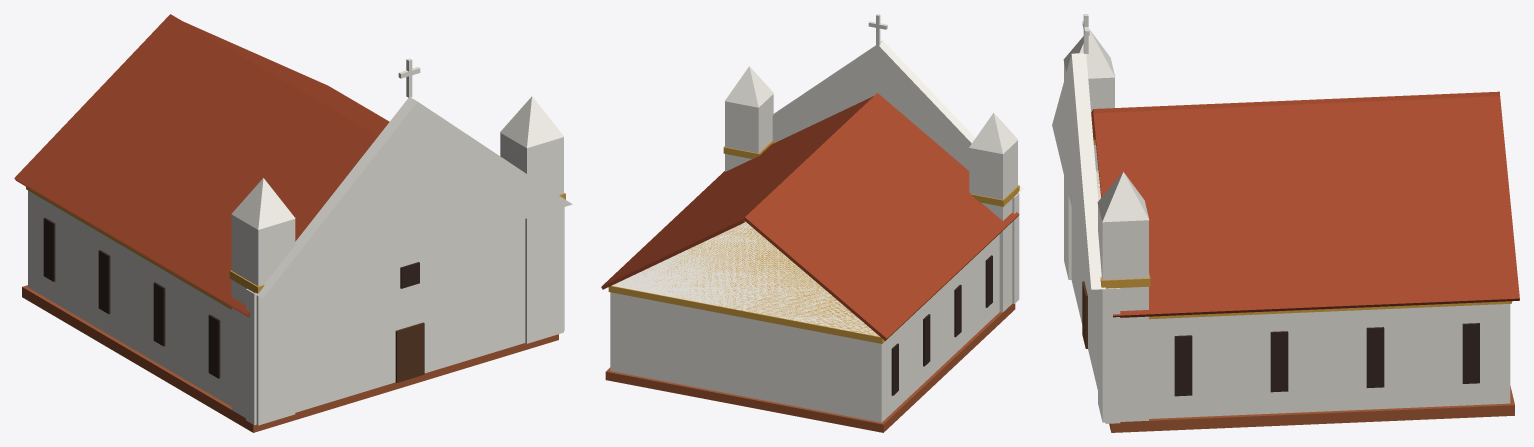
File: donbosco.glb
3 renders of one model, left to right at view 1: azimuth 30°, elevation 25°; view 2: azimuth 150°, elevation 25°; view 3: azimuth 270°, elevation 25°, orthographic. The views are drawn at different scales.
Parts seen in each view (by area): view 1: m.001, Cube.011, m.002, Cube.001, Cube.016, Cube.014, Cube, m, Cone, Cone.001, Cube.012, Cube.007 (+4 smaller); view 2: Cube.001, m.001, m, Cube.002, m.002, Cube, Cube.016, Cube.014, Cone, Cone.001, Cube.011; view 3: m, Cube.001, Cube.014, m.002, Cube, Cube.011, m.001, Cone, Cube.016, Cube.002, Cube.003, Cube.004 (+4 smaller).
Part boxes in pixels (left/top/right/bottom): m.001: left=14, top=14, right=378, bottom=317; Cube.011: left=246, top=207, right=564, bottom=425; m.002: left=254, top=97, right=572, bottom=298; Cube.001: left=28, top=190, right=231, bottom=406; Cube.016: left=231, top=215, right=295, bottom=425; Cube.014: left=500, top=133, right=563, bottom=343; Cube: left=22, top=285, right=558, bottom=432; m: left=185, top=22, right=389, bottom=135; Cone: left=500, top=96, right=563, bottom=147; Cone.001: left=231, top=178, right=295, bottom=229; Cube.012: left=395, top=322, right=424, bottom=382; Cube.007: left=208, top=314, right=220, bottom=378; Cube.001: left=610, top=222, right=999, bottom=422; m.001: left=743, top=93, right=1019, bottom=340; m: left=601, top=96, right=873, bottom=289; Cube.002: left=608, top=222, right=1000, bottom=343; m.002: left=772, top=40, right=1023, bottom=193; Cube: left=605, top=304, right=1015, bottom=432; Cube.016: left=969, top=140, right=1017, bottom=312; Cube.014: left=725, top=94, right=773, bottom=171; Cone: left=725, top=66, right=773, bottom=107; Cone.001: left=969, top=112, right=1017, bottom=153; Cube.011: left=1012, top=193, right=1019, bottom=303; m: left=1093, top=96, right=1519, bottom=317; Cube.001: left=1096, top=170, right=1510, bottom=418; Cube.014: left=1098, top=205, right=1148, bottom=422; m.002: left=1052, top=53, right=1105, bottom=289; Cube: left=1109, top=386, right=1514, bottom=432; Cube.011: left=1071, top=196, right=1120, bottom=423; m.001: left=1091, top=91, right=1499, bottom=139; Cone: left=1097, top=172, right=1149, bottom=222; Cube.016: left=1064, top=62, right=1114, bottom=279; Cube.002: left=1096, top=171, right=1511, bottom=319; Cube.003: left=1174, top=335, right=1192, bottom=396; Cube.004: left=1270, top=331, right=1288, bottom=392.
Size of the model in its own units: 29.97 by 25.53 by 32.11.
